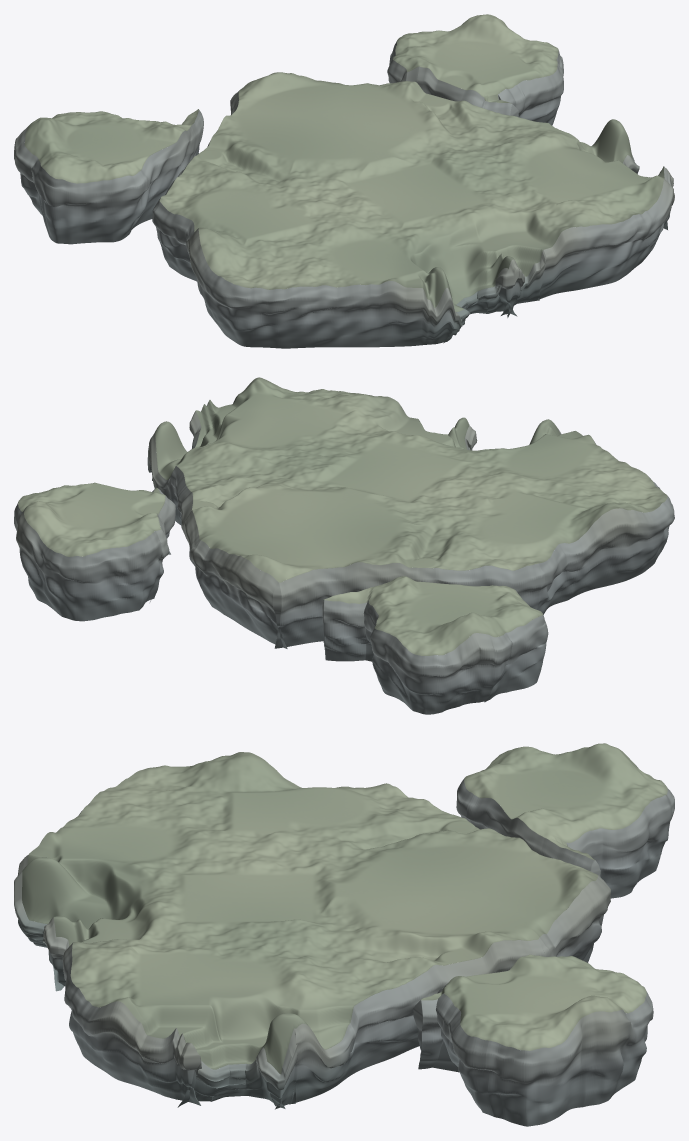
3 renders of one model, top to bottom at view 1: azimuth 30°, elevation 25°; view 2: azimuth 150°, elevation 25°; view 3: azimuth 270°, elevation 25°, orthographic. The views are drawn at different scales.
Parts seen in each view (by area): view 1: ground, cliffs; view 2: ground, cliffs; view 3: ground, cliffs.
Boxes of the visible parts, x1,y1,x2,y2 form: ground: [24, 14, 666, 311]; cliffs: [14, 42, 674, 348]; ground: [18, 377, 667, 655]; cliffs: [14, 386, 674, 714]; ground: [22, 743, 667, 1074]; cliffs: [14, 765, 674, 1126].
Bounding box in the file's own units: 238 × 38.79 × 219.
